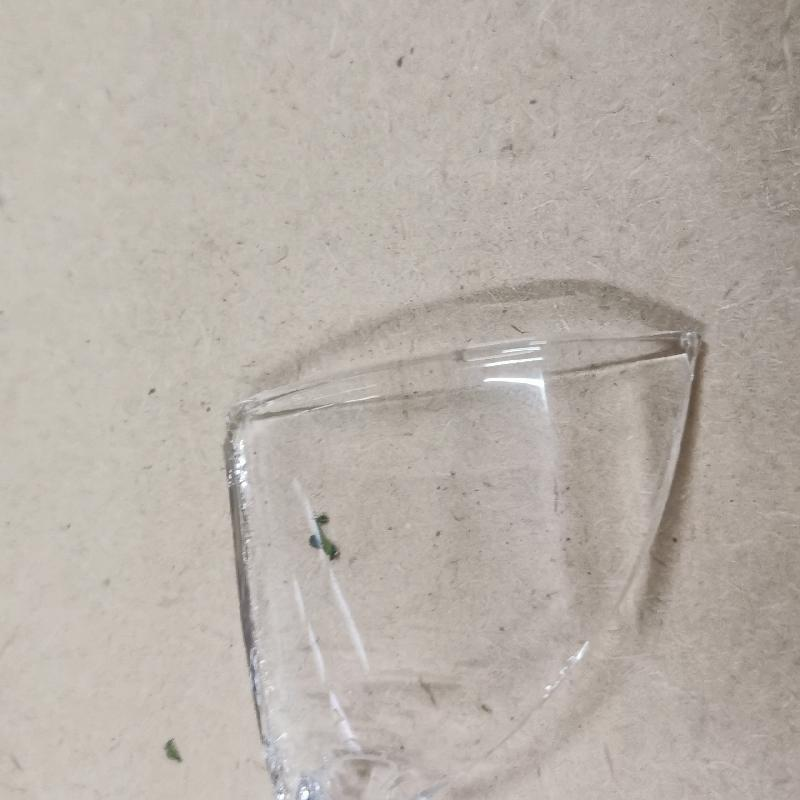glass: (221, 327, 705, 800)
